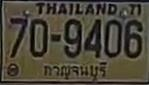0: (29, 18, 47, 56), (104, 19, 121, 57)
4: (84, 18, 101, 57)
6: (124, 19, 142, 57)
7: (9, 17, 28, 57)
9: (63, 18, 81, 57)
KRI: (42, 62, 110, 81)
